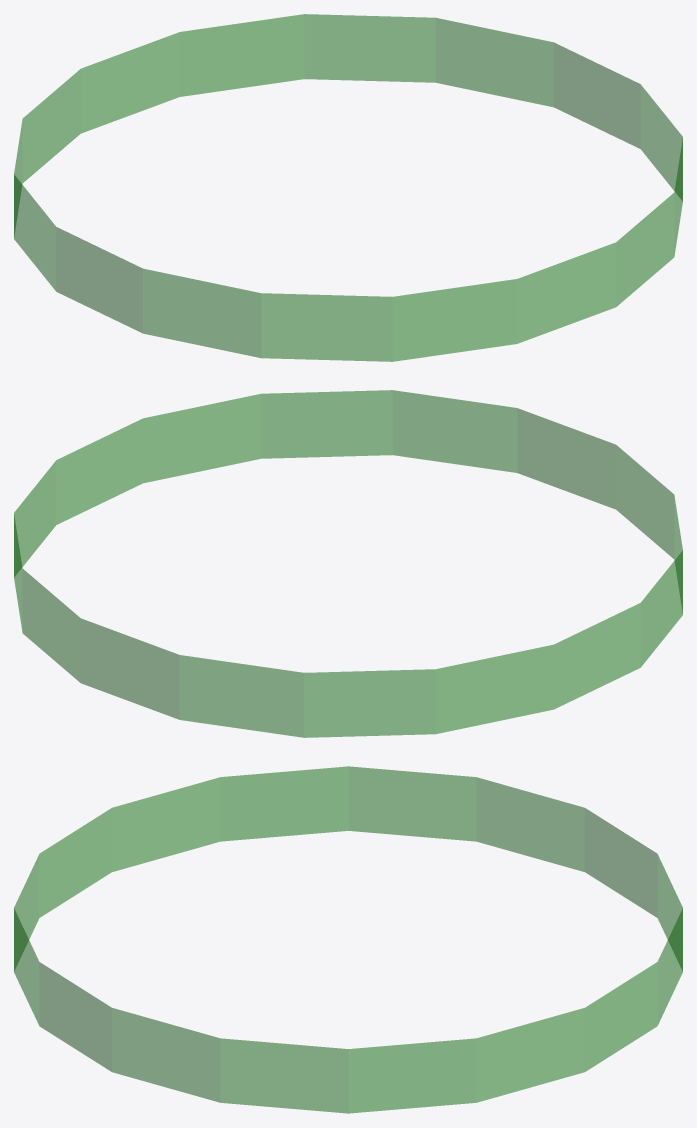
Rendered from polymsh_detached6.obj.
3 renders of one model, top to bottom at view 1: azimuth 30°, elevation 25°; view 2: azimuth 150°, elevation 25°; view 3: azimuth 270°, elevation 25°, orthographic.
Bounding box in the file's own units: 8.54 × 0.9081 × 8.54.
